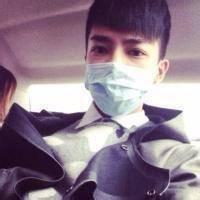face_mask: (84, 13, 158, 111)
